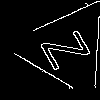Z: (39, 23, 100, 72)
